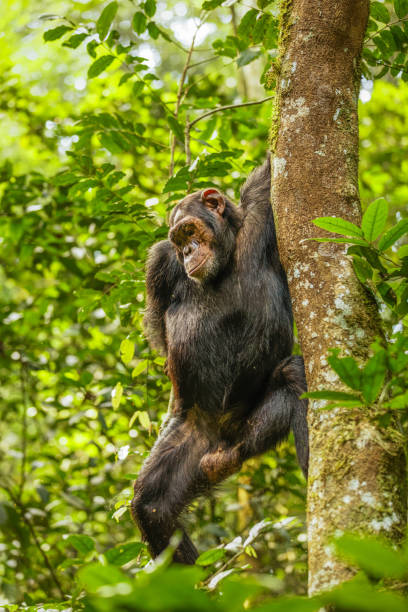chimpanzee: (130, 164, 252, 318)
